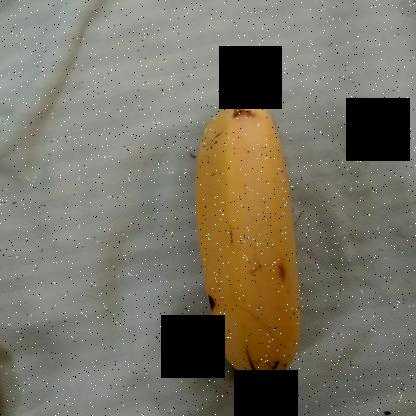freshripe: (172, 95, 321, 390)
